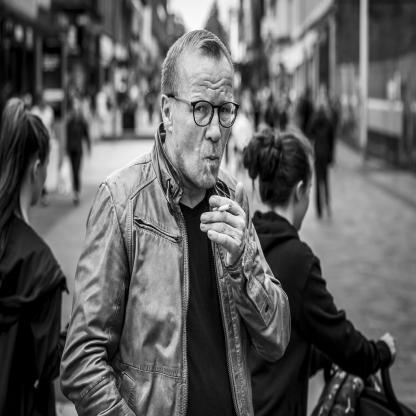smoking: (212, 204, 232, 211)
